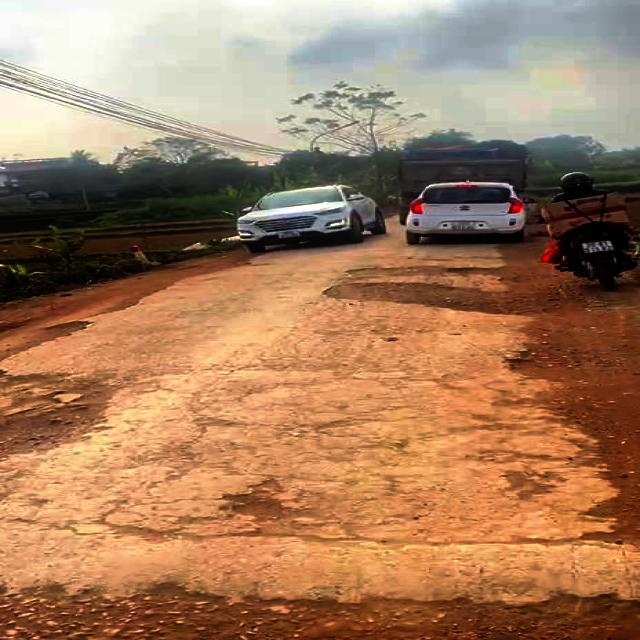pothole: (0, 585, 640, 640), (0, 368, 121, 466), (321, 264, 530, 318), (0, 318, 105, 364), (219, 480, 302, 534), (509, 341, 603, 382), (486, 462, 558, 503)
